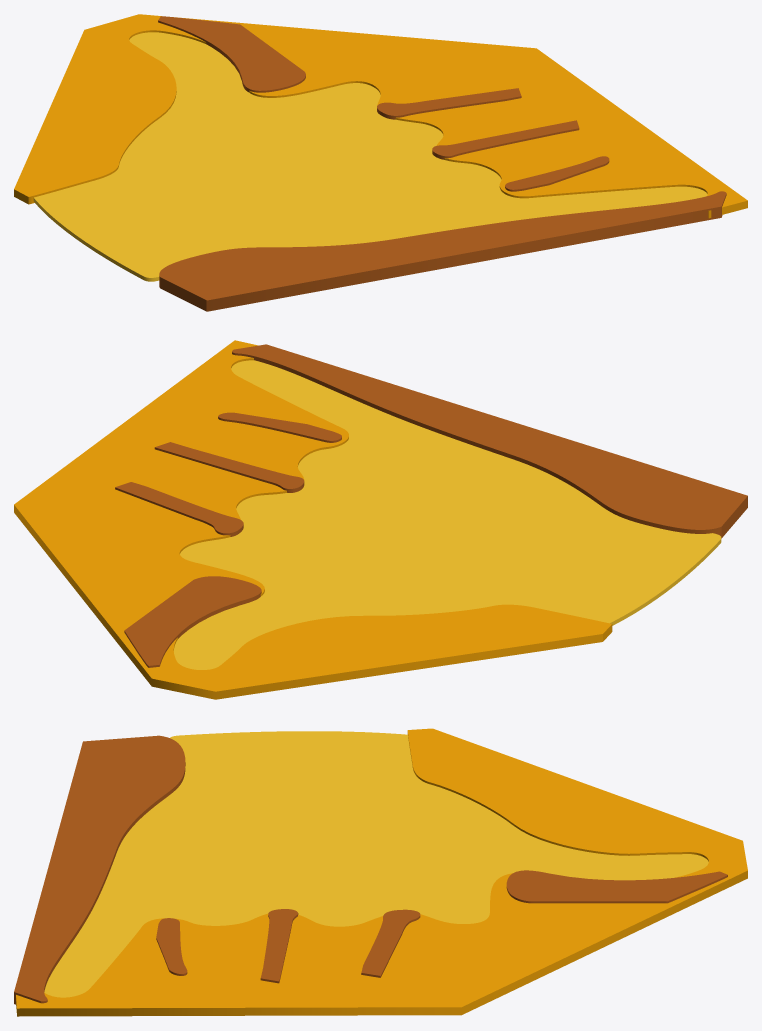
The model's file is emoji_u1f919.glb.
The picture shows the model from 3 angles, top to bottom: view 1: azimuth 30°, elevation 25°; view 2: azimuth 150°, elevation 25°; view 3: azimuth 270°, elevation 25°; orthographic projection. The views are drawn at different scales.
Visible parts, largest first — view 1: emoji_u1f919; view 2: emoji_u1f919; view 3: emoji_u1f919.
Part boxes in pixels (x1,y1,x2,y2): emoji_u1f919: [14, 14, 747, 311]; emoji_u1f919: [14, 340, 747, 699]; emoji_u1f919: [14, 728, 747, 1016].
Bounding box in the file's own units: 0.03 × 0.0006 × 0.0333.
